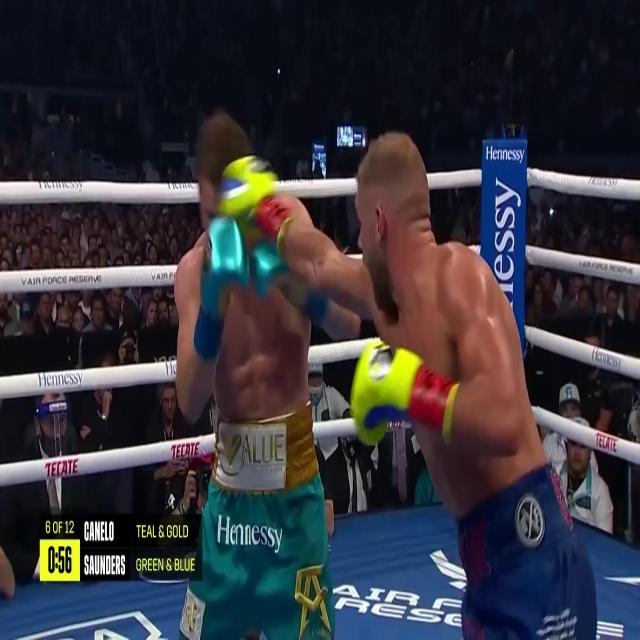boxer_2: (357, 133, 546, 519), (216, 288, 311, 419), (198, 112, 252, 226), (282, 194, 311, 226)
gloves_1: (350, 340, 460, 447), (217, 156, 293, 260)
gloves_2: (193, 217, 327, 359)
